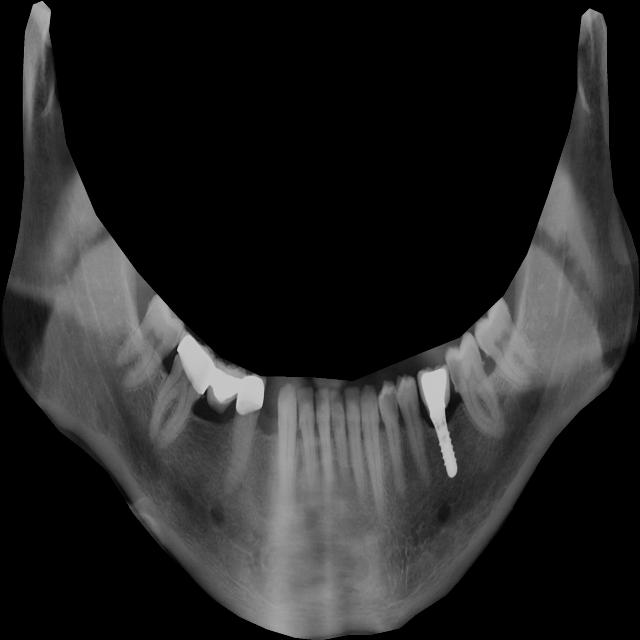mandibula: (0, 0, 640, 640)
